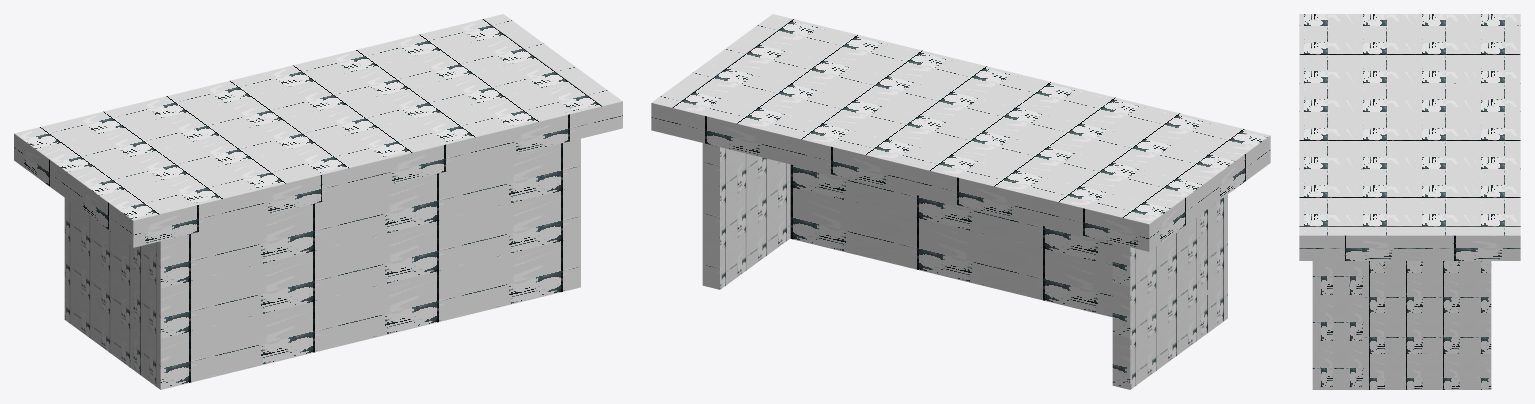
Rendered from DeskMedium.FBX.
3 views of the same model, side by side, from view 1: azimuth 30°, elevation 25°; view 2: azimuth 150°, elevation 25°; view 3: azimuth 270°, elevation 25° (orthographic). The views are drawn at different scales.
Visible parts, largest first — view 1: MediumDesk; view 2: MediumDesk; view 3: MediumDesk.
Boxes of the visible parts, bbox=[...] form: MediumDesk: bbox=[14, 14, 622, 389]; MediumDesk: bbox=[651, 14, 1270, 389]; MediumDesk: bbox=[1299, 14, 1520, 389].
Size of the model in its own units: 4.81 by 2.03 by 1.72.
1 material, 1 textured.
